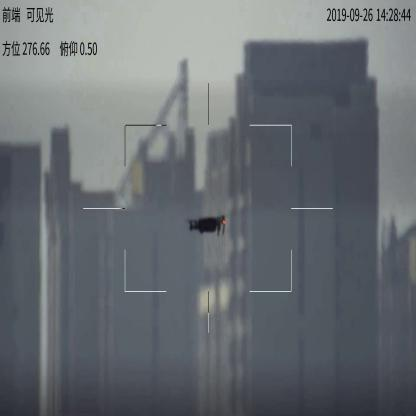uav: (181, 215, 226, 237)
